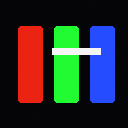3 line_h: (52, 48, 100, 54)
